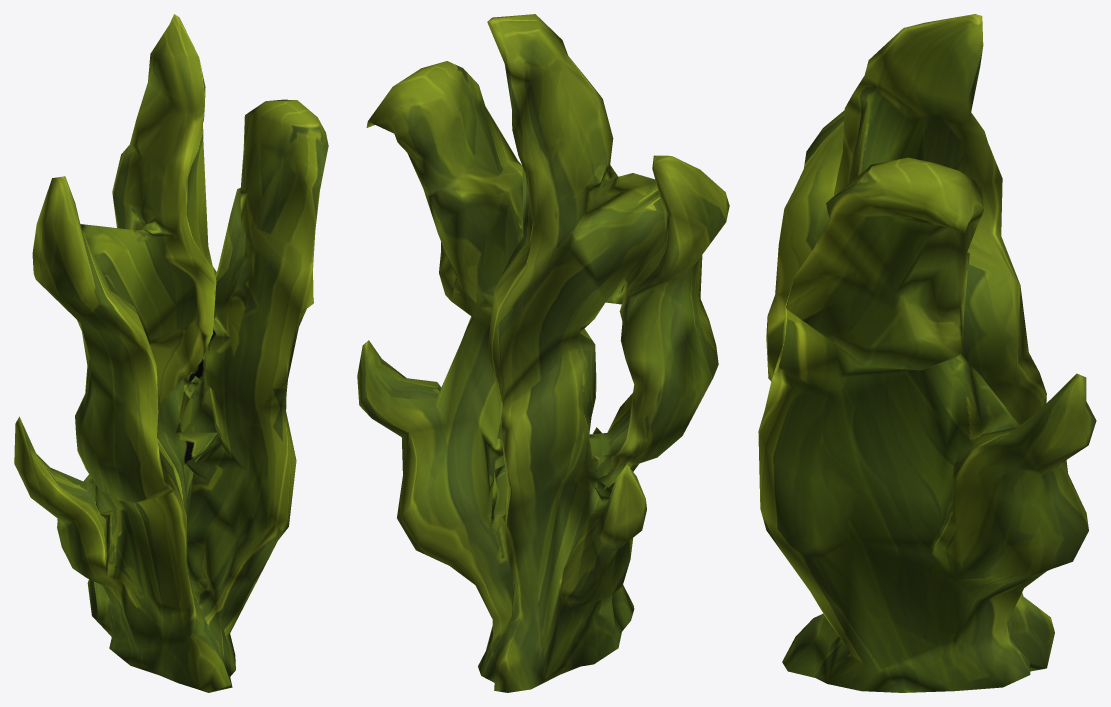
Rendered from alga_1.glb.
3 renders of one model, left to right at view 1: azimuth 30°, elevation 25°; view 2: azimuth 150°, elevation 25°; view 3: azimuth 270°, elevation 25°, orthographic. The views are drawn at different scales.
Visible parts, largest first — view 1: alga_1; view 2: alga_1; view 3: alga_1.
Boxes of the visible parts, x1=… form: alga_1: x1=14, y1=14, x2=328, y2=692; alga_1: x1=357, y1=14, x2=729, y2=692; alga_1: x1=758, y1=14, x2=1096, y2=692.
Size of the model in its own units: 1.1 by 2.2 by 1.
Materials: 1 (1 with a texture image).
